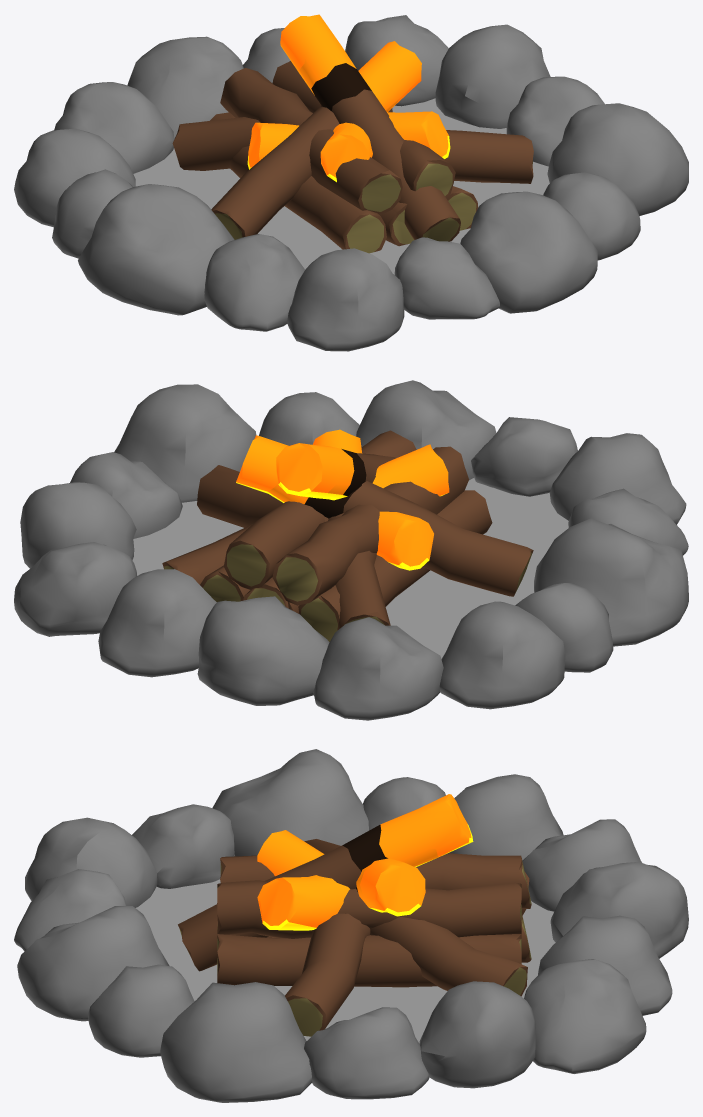
Rendered from Fires.fbx.
3 views of the same model, one above another, from view 1: azimuth 30°, elevation 25°; view 2: azimuth 150°, elevation 25°; view 3: azimuth 270°, elevation 25° (orthographic). The views are drawn at different scales.
Parts seen in each view (by area): view 1: Campfire02A1, Campfire01A, FirewoodPile01, Campfire02C1; view 2: Campfire02A1, Campfire01A, FirewoodPile01, Campfire02C1; view 3: Campfire02A1, Campfire01A, FirewoodPile01, Campfire02C1.
Part boxes in pixels (x1,y1,x2,y2): Campfire02A1: (14, 15, 688, 351); Campfire01A: (172, 14, 533, 241); FirewoodPile01: (210, 61, 478, 253); Campfire02C1: (133, 98, 549, 274); Campfire02A1: (14, 380, 688, 720); Campfire01A: (162, 429, 533, 630); FirewoodPile01: (200, 430, 492, 641); Campfire02C1: (132, 478, 568, 658); Campfire02A1: (14, 749, 688, 1102); Campfire01A: (178, 794, 529, 1036); FirewoodPile01: (217, 853, 531, 987); Campfire02C1: (135, 879, 555, 1043).
Bounding box in the file's own units: 1.38 × 0.392 × 1.35.
